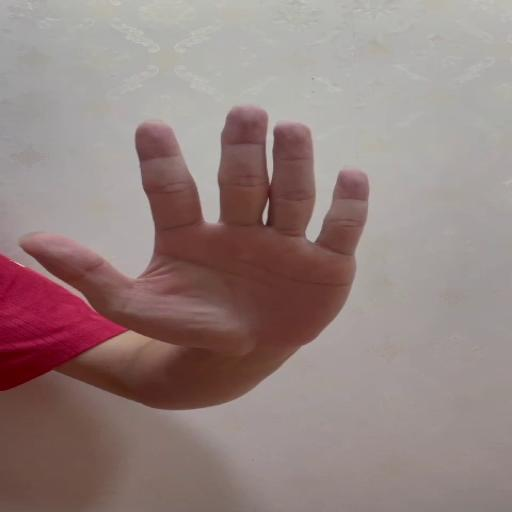open_palm: (14, 102, 376, 353)
